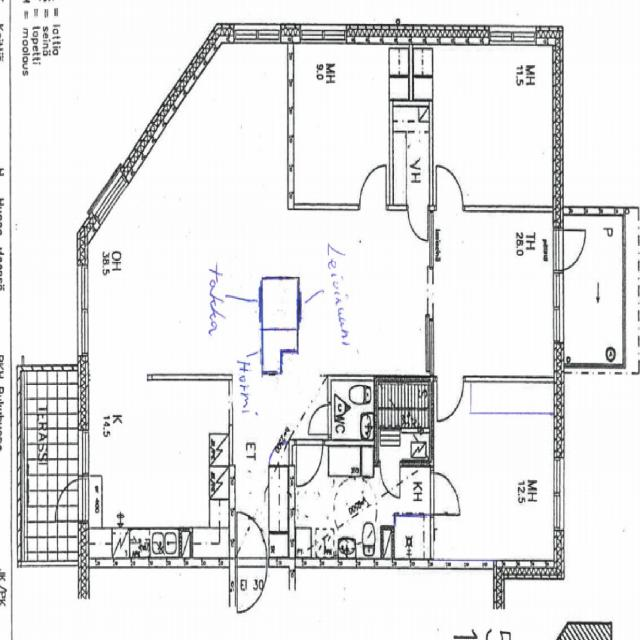door: (237, 557, 267, 612), (237, 512, 267, 566), (51, 480, 89, 521), (553, 230, 590, 270), (430, 472, 462, 514), (436, 375, 464, 422), (436, 163, 463, 210), (359, 164, 386, 210), (296, 440, 322, 485), (380, 459, 400, 496), (408, 204, 428, 240), (308, 404, 330, 434)
